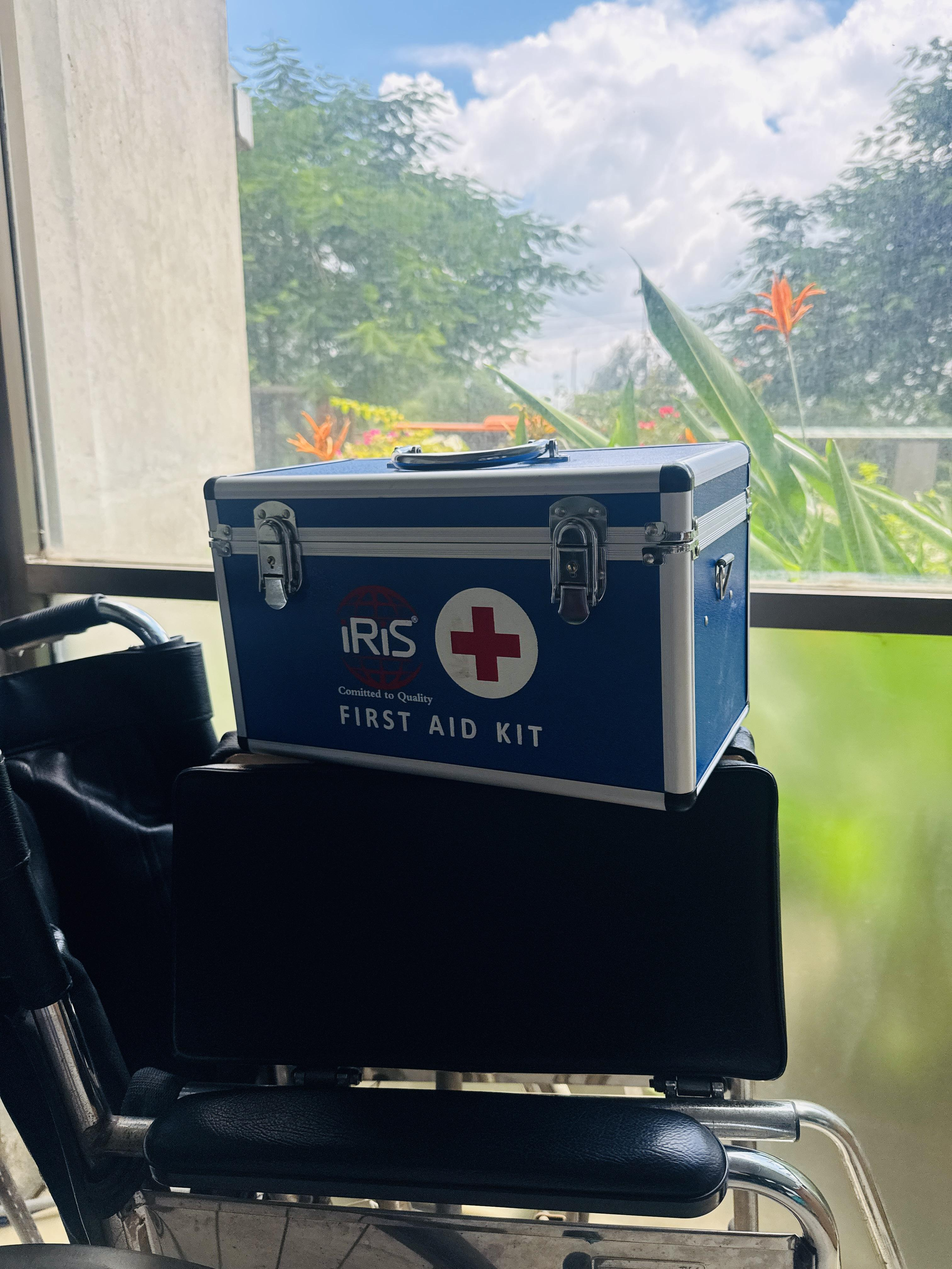FirstAidBox: (186, 407, 813, 849)
